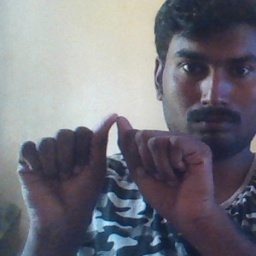A: (37, 117, 188, 210)
